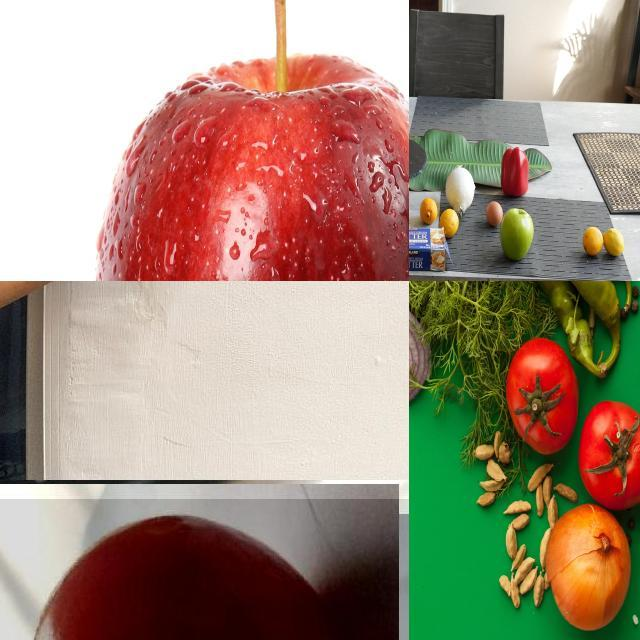bell_pepper: (499, 144, 533, 196)
egg: (484, 198, 506, 230)
onion: (446, 163, 478, 208)
tomato: (504, 333, 574, 455), (586, 395, 640, 512)
